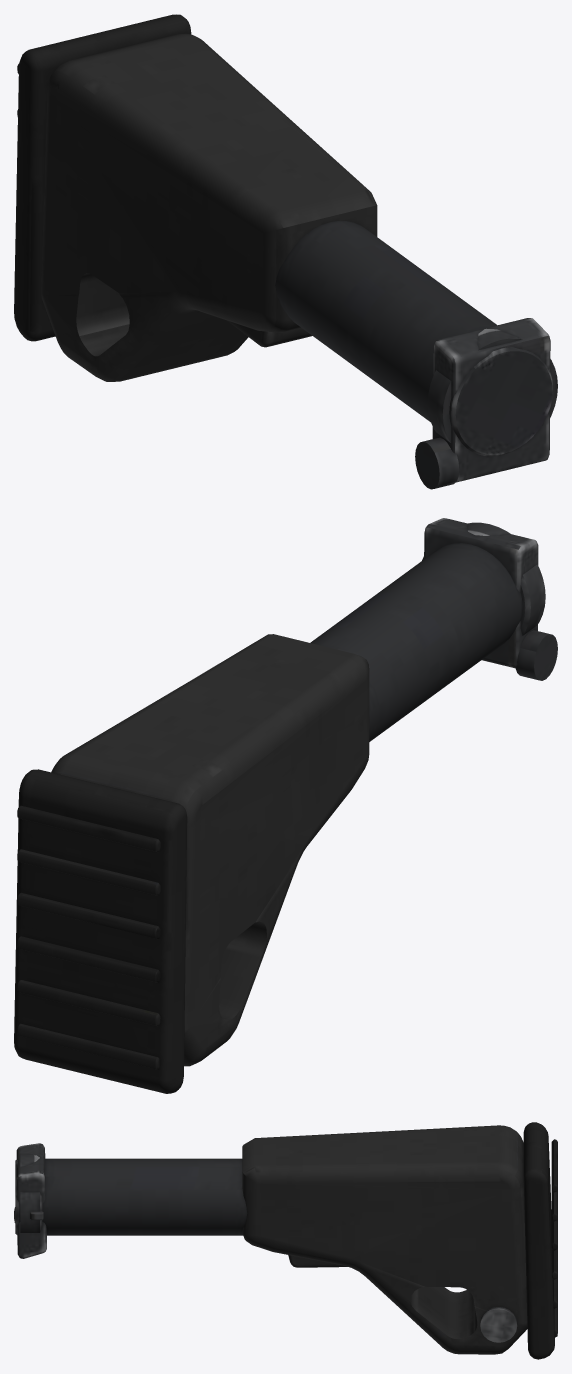
The model's file is stock_tactical.glb.
3 views of the same model, one above another, from view 1: azimuth 30°, elevation 25°; view 2: azimuth 150°, elevation 25°; view 3: azimuth 270°, elevation 25° (orthographic). The views are drawn at different scales.
Parts seen in each view (by area): view 1: body; view 2: body; view 3: body.
Boxes of the visible parts, <box> form: body: <box>14,14,557,489</box>; body: <box>14,518,557,1093</box>; body: <box>14,1122,557,1359</box>.
Bounding box in the file's own units: 0.0495 × 0.0859 × 0.2205.
1 material, 1 textured.
